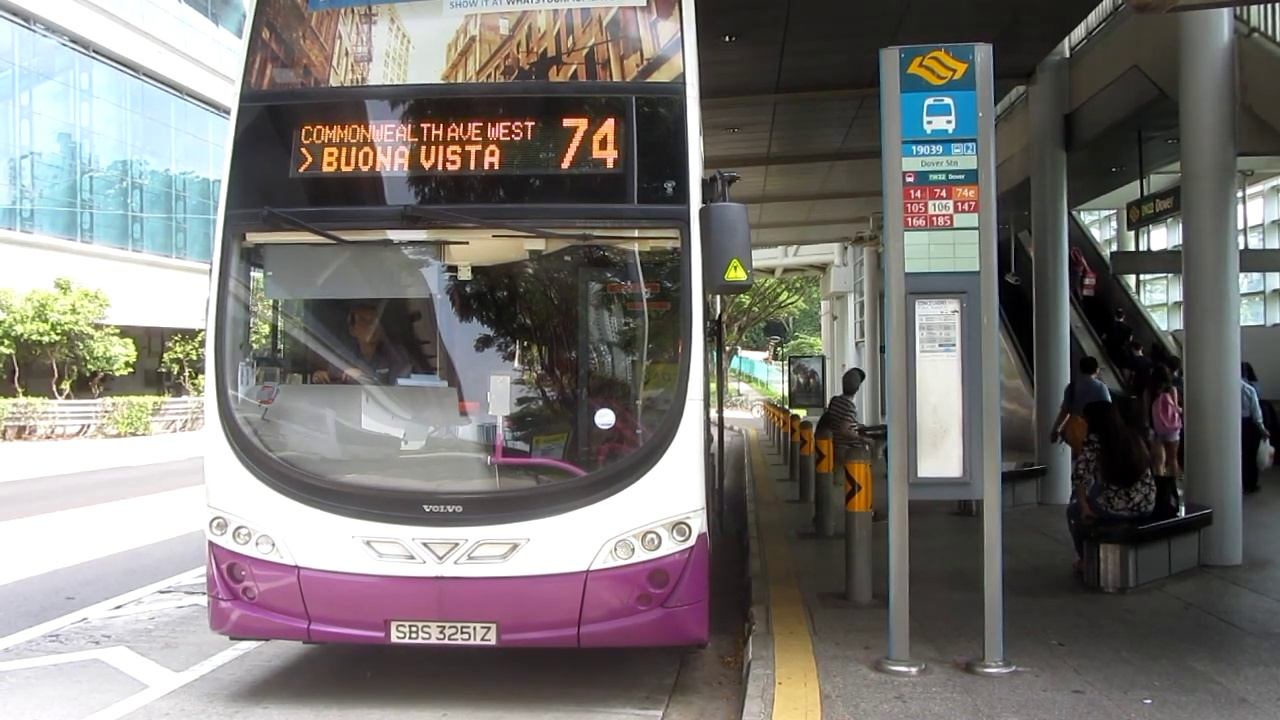bus panel: (286, 112, 626, 181)
